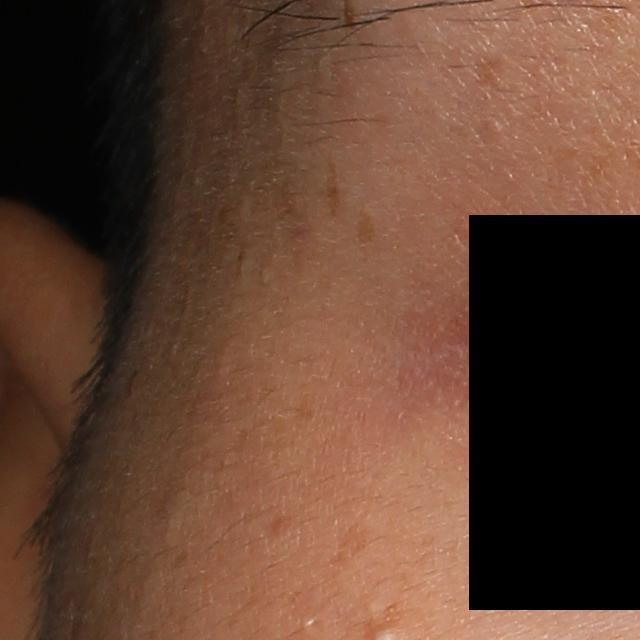melasma: (468, 48, 513, 98), (325, 518, 372, 565), (323, 157, 344, 220), (350, 207, 379, 252)
